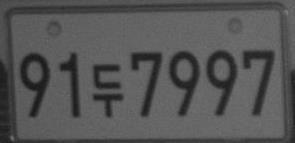1: (56, 52, 87, 118)
7: (241, 48, 275, 115), (130, 51, 163, 117)
9: (204, 47, 238, 116), (167, 49, 200, 117), (19, 51, 50, 118)
두: (92, 63, 124, 118)
